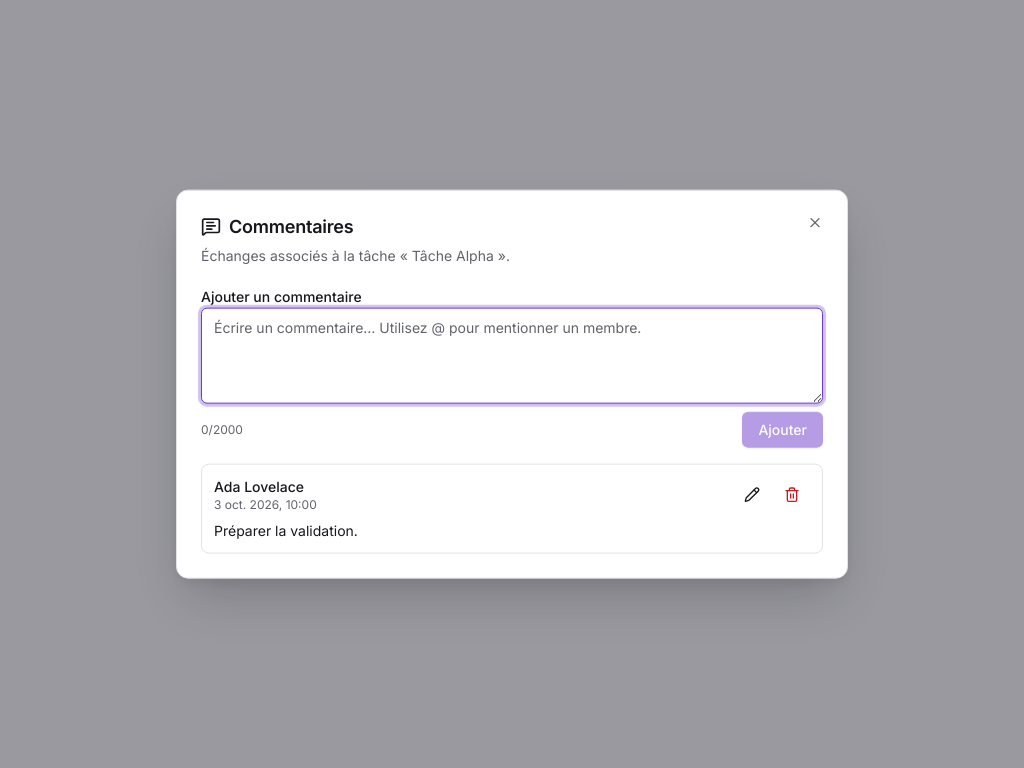
Scenario: TaskCommentsDialog › cancels deletion and leaves the comment untouched
Click the button named "Supprimer le commentaire" at x=792, y=494, box [774, 476, 810, 512]
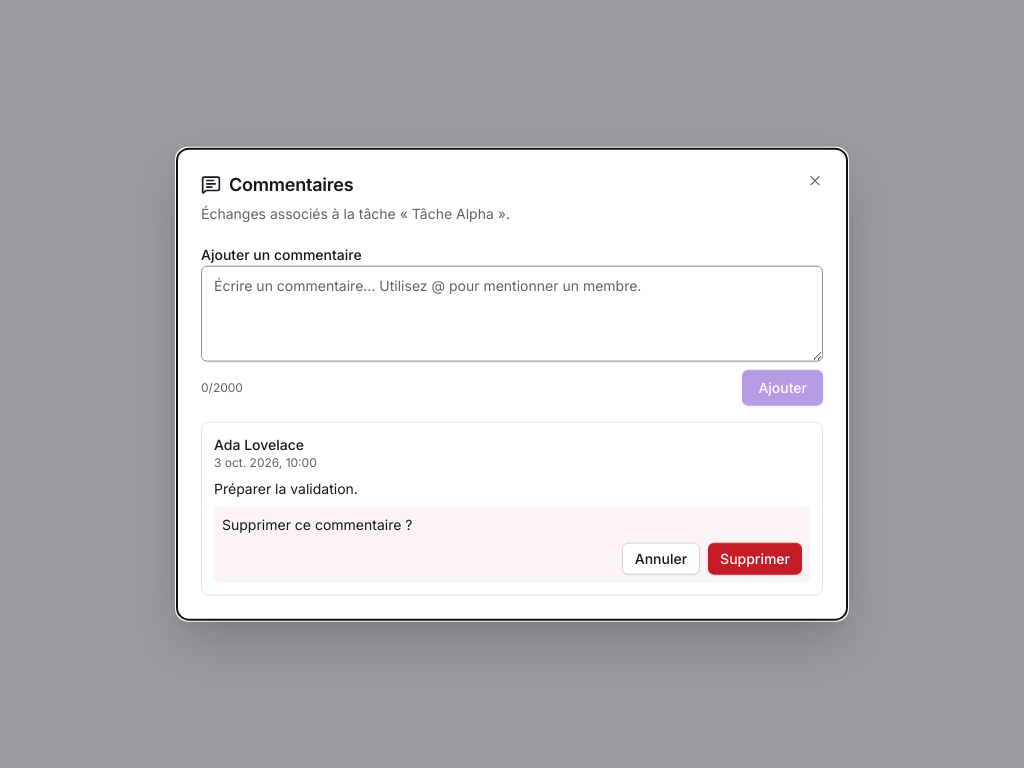
Click the button "Annuler" at x=661, y=558, box [622, 542, 700, 574]
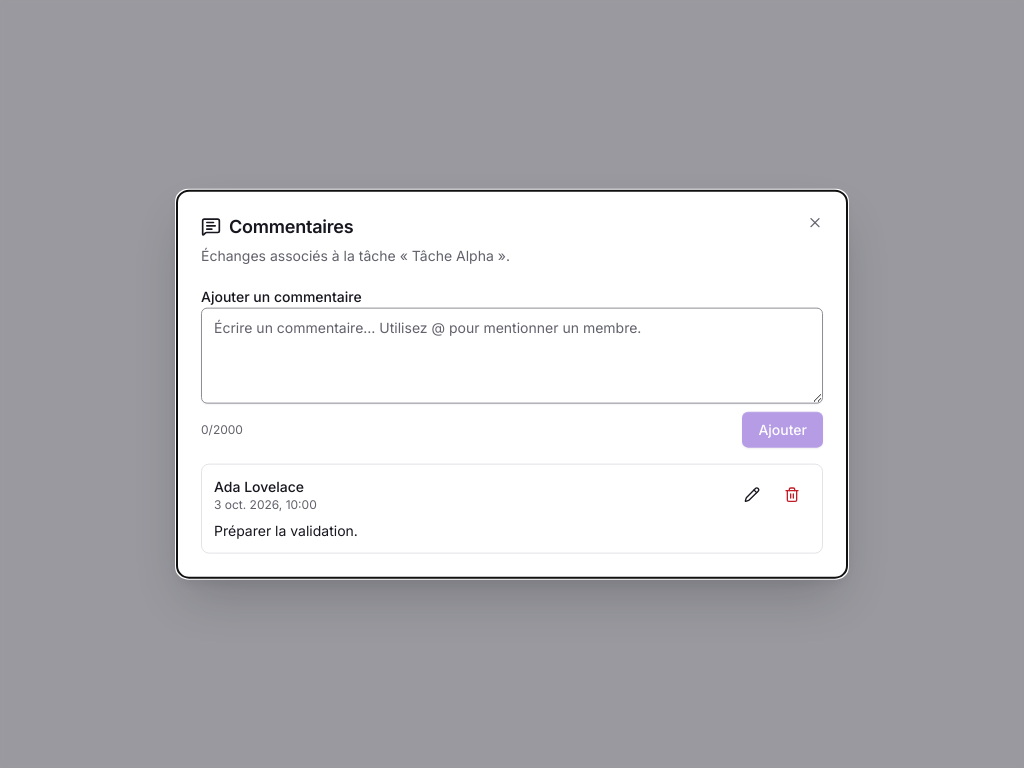
Now the text "Supprimer ce commentaire ?" is gone
